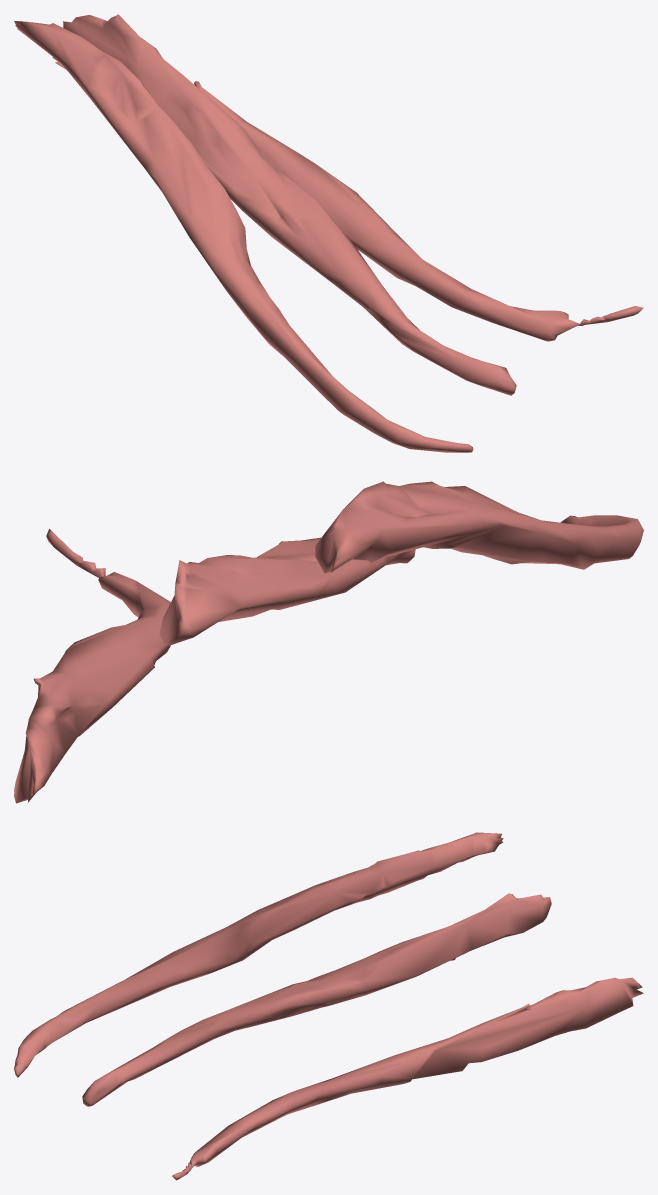
3 renders of one model, top to bottom at view 1: azimuth 30°, elevation 25°; view 2: azimuth 150°, elevation 25°; view 3: azimuth 270°, elevation 25°, orthographic. The views are drawn at different scales.
Visible parts, largest first — view 1: ZA_9428c9257edb40cb; view 2: ZA_9428c9257edb40cb; view 3: ZA_9428c9257edb40cb.
Boxes of the visible parts, bbox=[...] form: ZA_9428c9257edb40cb: bbox=[14, 14, 643, 452]; ZA_9428c9257edb40cb: bbox=[14, 481, 643, 803]; ZA_9428c9257edb40cb: bbox=[14, 832, 643, 1180].
Bounding box in the file's own units: 0.043 × 0.0263 × 0.0718.
